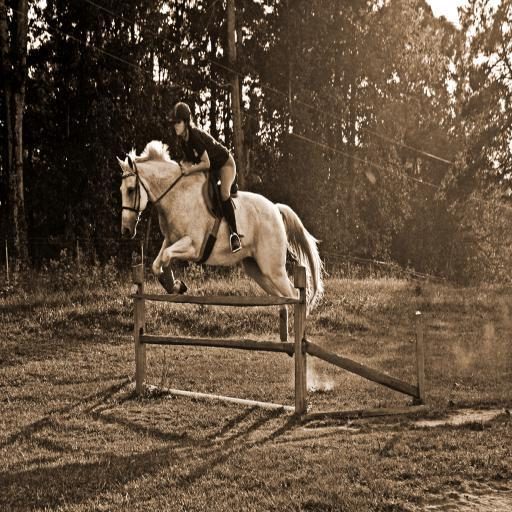Horse: (114, 138, 326, 360)
